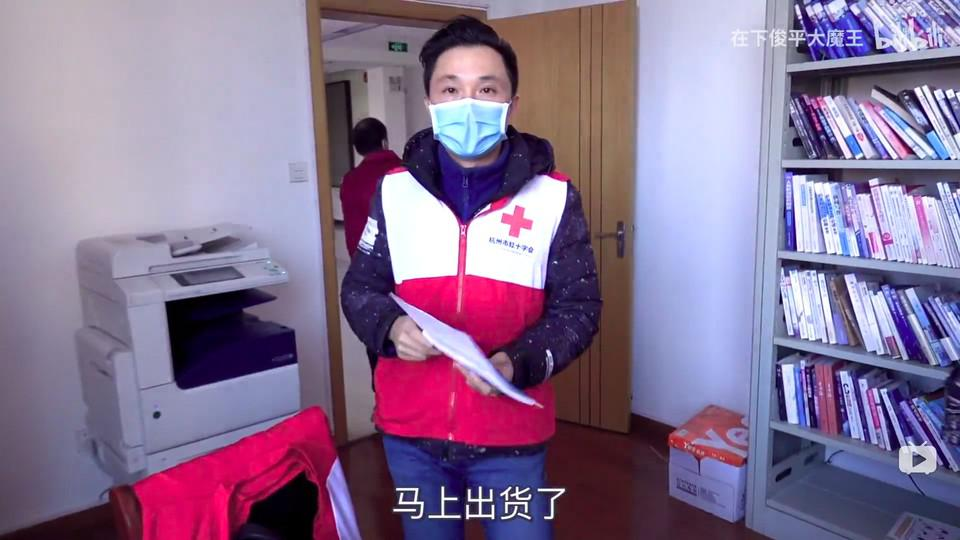OK: (427, 64, 517, 160)
